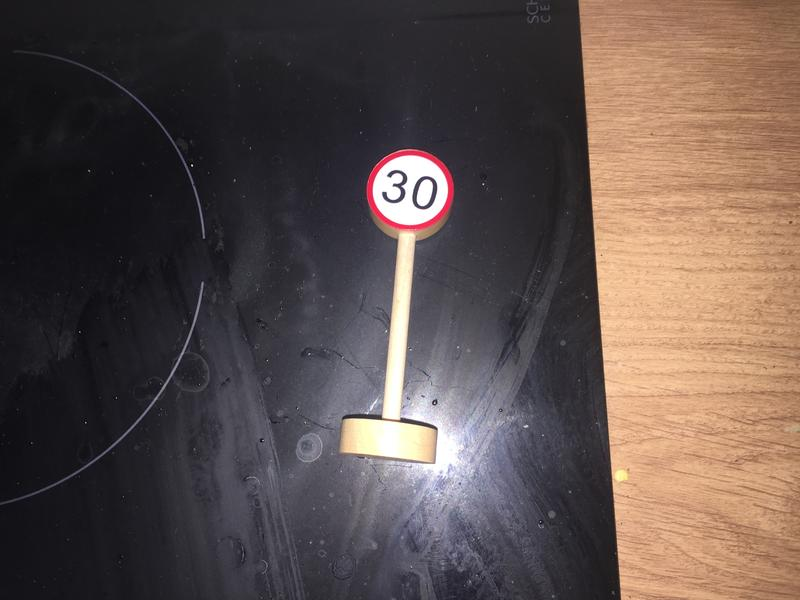Traffic_Sign_30: (369, 150, 451, 227)
